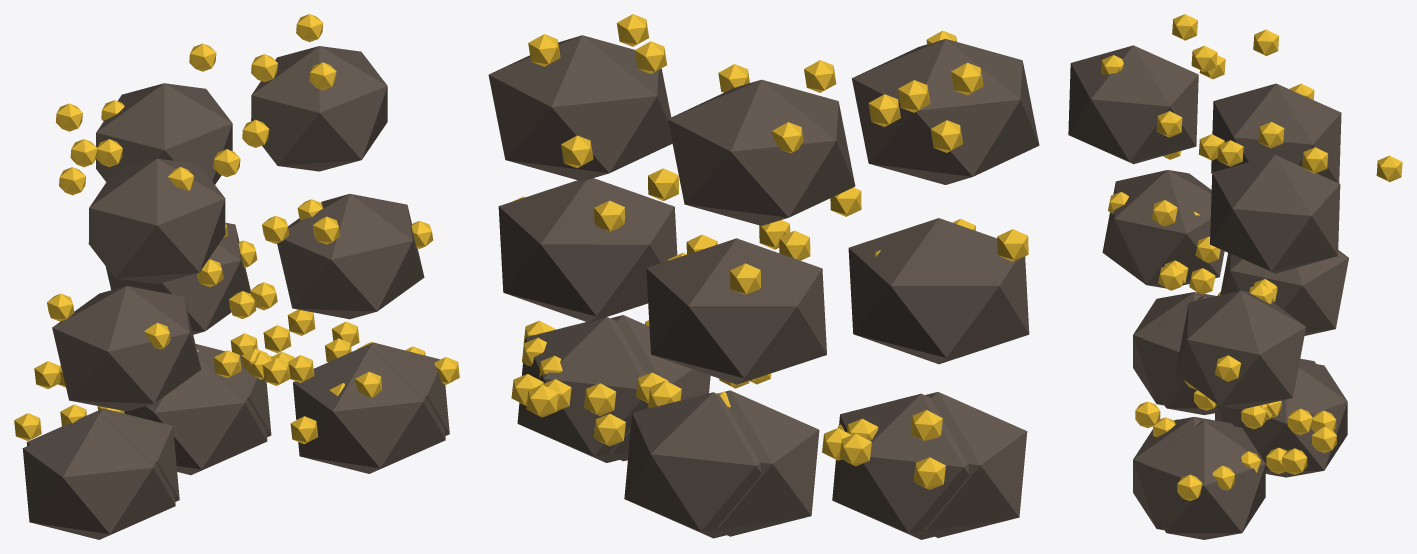
The model's file is Ore_Gold.fbx.
3 views of the same model, side by side, from view 1: azimuth 30°, elevation 25°; view 2: azimuth 150°, elevation 25°; view 3: azimuth 270°, elevation 25° (orthographic). The views are drawn at different scales.
Visible parts, largest first — view 1: Ore_Gold__Stack, Ore_Gold; view 2: Ore_Gold__Stack, Ore_Gold; view 3: Ore_Gold__Stack, Ore_Gold.
Boxes of the visible parts, left/top/right/bottom form: Ore_Gold__Stack: left=26, top=14, right=449, bottom=501; Ore_Gold: left=14, top=333, right=459, bottom=539; Ore_Gold__Stack: left=488, top=14, right=1039, bottom=539; Ore_Gold: left=523, top=315, right=1027, bottom=537; Ore_Gold__Stack: left=1068, top=14, right=1402, bottom=539; Ore_Gold: left=1133, top=292, right=1336, bottom=530.
Bounding box in the file's own units: 0.142 × 0.1313 × 0.1019.
